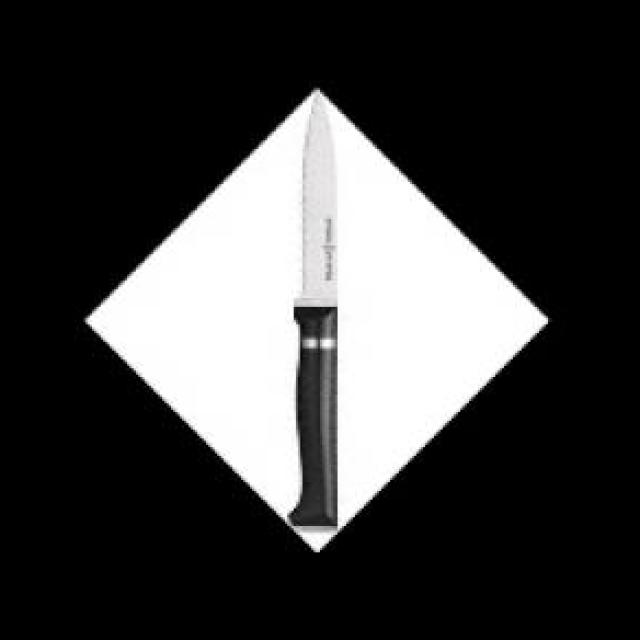knife: (283, 94, 341, 537)
